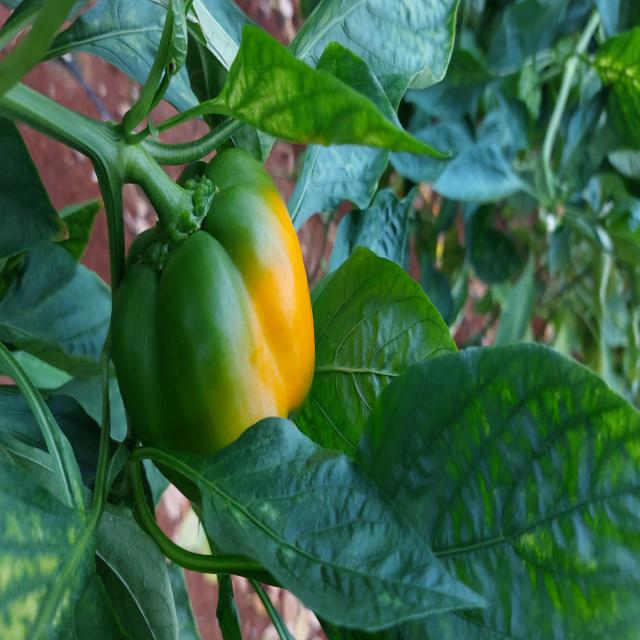GreenishYellow--Can-be-Harvested: (101, 138, 328, 494)
